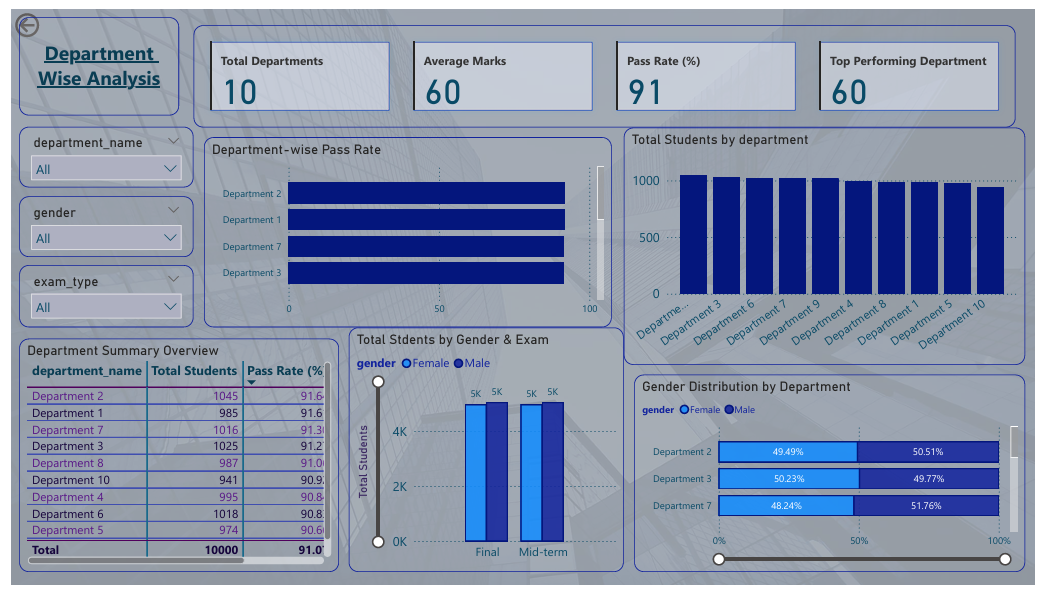

The page's visual inventory and layout, read from the dashboard file:
{"tool":"powerbi","page":{"name":"Department","canvas":[1280,720],"ordinal":1},"visuals":[{"type":"cardVisual","fields":{"Data":["departments1.Total Departments","marks.Average Marks","marks.Pass Rate (%)","departments1.Top Performing Department"]},"box":[228.5,20.2,1028,127.7],"z":0},{"type":"actionButton","box":[0,0,100,40],"z":1000},{"type":"columnChart","title":"Total Students by department","fields":{"Category":["departments1.department_name"],"Y":["students.Total Students"]},"box":[766,147.8,502.3,297.3],"z":2000},{"type":"barChart","title":"Department-wise Pass Rate","fields":{"Y":["marks.Pass Rate (%)"],"Category":["departments1.department_name"]},"box":[240.9,160.2,510.2,238.1],"z":3000},{"type":"tableEx","title":"Department Summary Overview","fields":{"Values":["departments1.department_name","students.Total Students","marks.Pass Rate (%)","marks.Average Marks"]},"box":[10.1,411.5,399.8,292.3],"z":4000},{"type":"slicer","fields":{"Values":["departments1.department_name"]},"box":[9.9,147.4,218.3,75.1],"z":5000},{"type":"slicer","fields":{"Values":["students.gender"]},"box":[9.9,233.9,218.3,76.5],"z":6000},{"type":"slicer","fields":{"Values":["exams.exam_type"]},"box":[9.9,320.3,218.3,78],"z":7000},{"type":"textbox","box":[10.1,10.1,199.9,122.6],"z":8000},{"type":"hundredPercentStackedBarChart","title":"Gender Distribution by Department","fields":{"Category":["departments1.department_name"],"Y":["Count(marks.student_id)"],"Series":["students.gender"]},"box":[779.4,456.9,488.8,246.9],"z":9000},{"type":"clusteredColumnChart","title":"Total Stdents by Gender & Exam","fields":{"Category":["exams.exam_type"],"Series":["students.gender"],"Y":["students.Total Students"]},"box":[421.6,398.1,344.4,305.7],"z":10000}]}

Visuals, with their boxes in screenshot pixels (x1, y1, x2, y2), scaled from the page's 1280x720 canvas onto the 1053x596 screenshot:
cardVisual - departments1.Total Departments x marks.Average Marks: Rect(188, 17, 1034, 122)
actionButton: Rect(0, 0, 82, 33)
"Total Students by department" columnChart: Rect(630, 122, 1043, 368)
"Department-wise Pass Rate" barChart: Rect(198, 133, 618, 330)
"Department Summary Overview" tableEx: Rect(8, 341, 337, 583)
slicer - departments1.department_name: Rect(8, 122, 188, 184)
slicer - students.gender: Rect(8, 194, 188, 257)
slicer - exams.exam_type: Rect(8, 265, 188, 330)
textbox: Rect(8, 8, 173, 110)
"Gender Distribution by Department" hundredPercentStackedBarChart: Rect(641, 378, 1043, 583)
"Total Stdents by Gender & Exam" clusteredColumnChart: Rect(347, 330, 630, 583)
